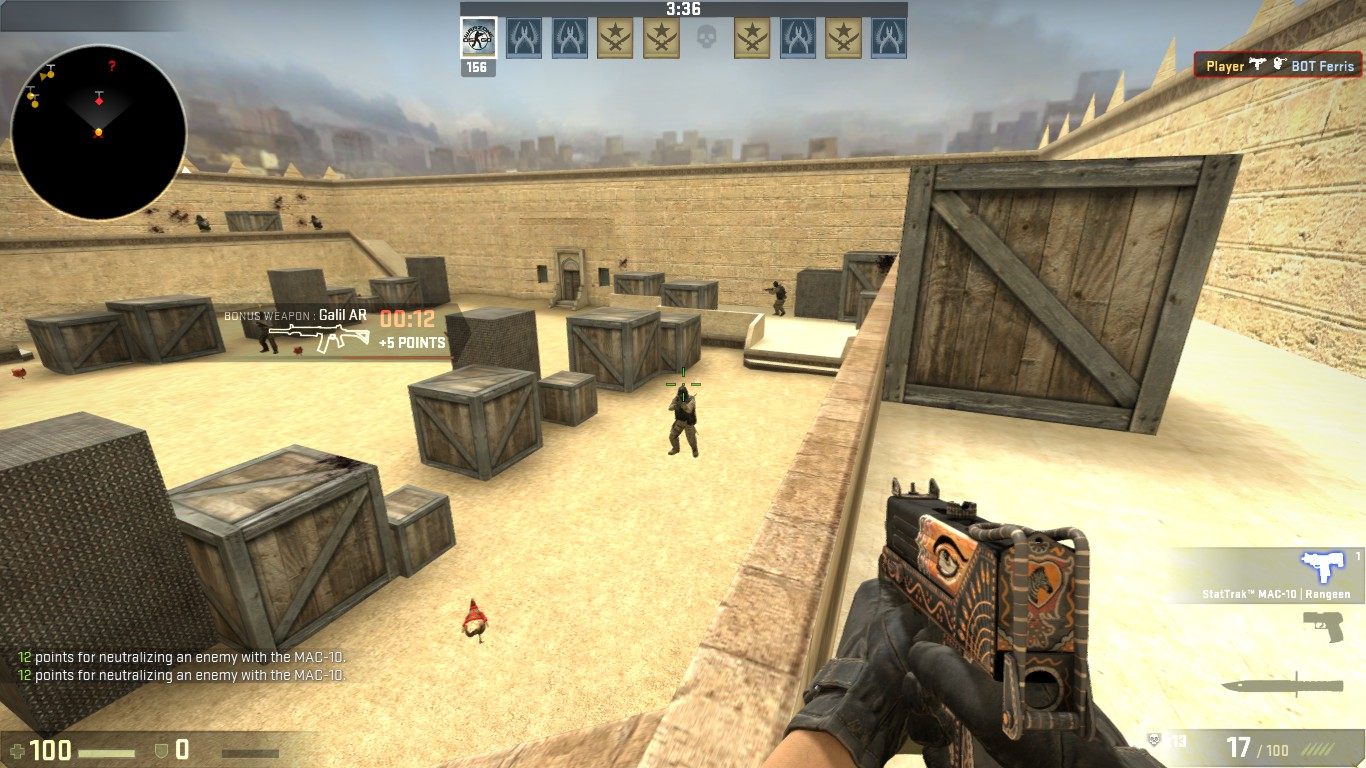c: (668, 382, 700, 458), (771, 280, 787, 315)
ch: (678, 384, 687, 399), (772, 280, 781, 288)
